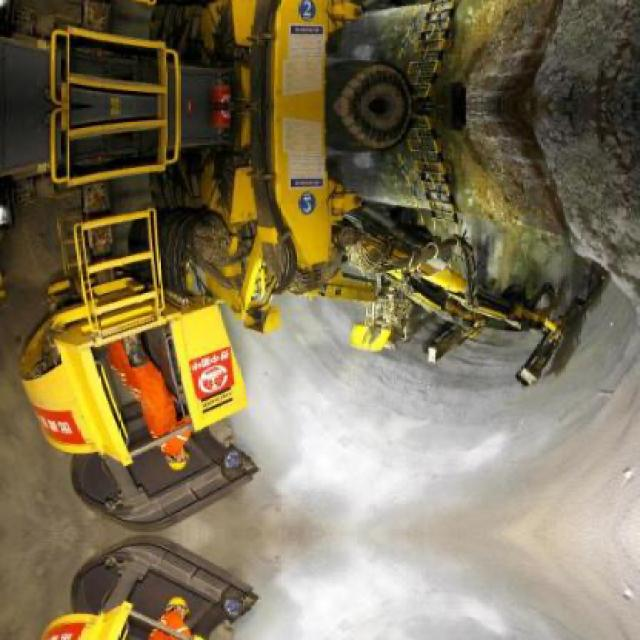con casco: (143, 406, 211, 491)
